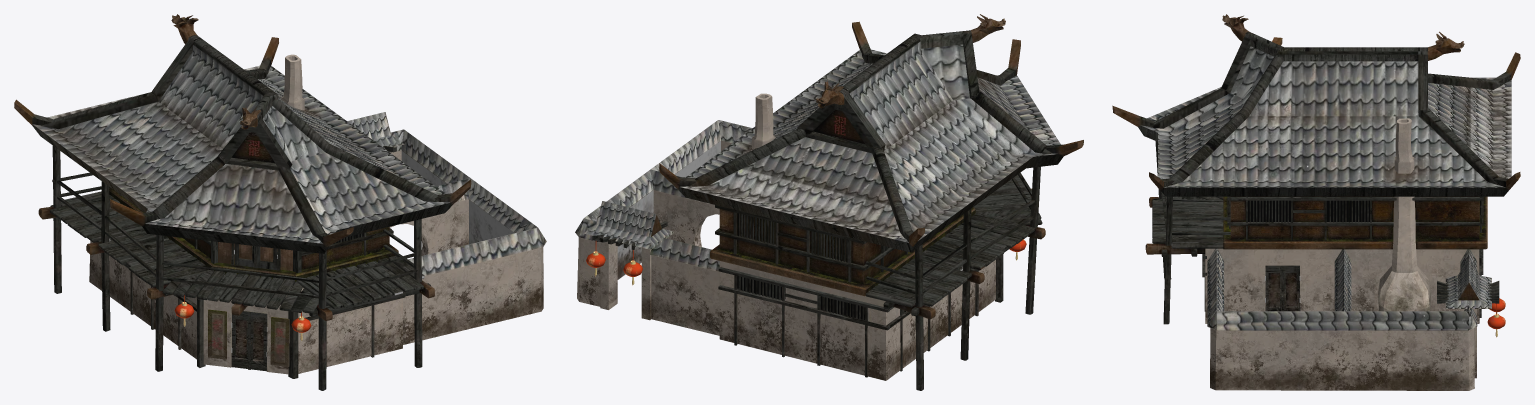
File: cour-chine.glb
3 views of the same model, side by side, from view 1: azimuth 30°, elevation 25°; view 2: azimuth 150°, elevation 25°; view 3: azimuth 270°, elevation 25° (orthographic). The views are drawn at different scales.
Parts seen in each view (by area): view 1: ROOF_WOODWORK3_StingrayPBSroof_0, PLASTER_OVEN1_StingrayPBSwalls_0; view 2: ROOF_WOODWORK3_StingrayPBSroof_0, PLASTER_OVEN1_StingrayPBSwalls_0; view 3: ROOF_WOODWORK3_StingrayPBSroof_0, PLASTER_OVEN1_StingrayPBSwalls_0.
Part boxes in pixels (x1,y1,x2,y2): ROOF_WOODWORK3_StingrayPBSroof_0: (14, 14, 471, 390); PLASTER_OVEN1_StingrayPBSwalls_0: (89, 54, 546, 374); ROOF_WOODWORK3_StingrayPBSroof_0: (586, 14, 1083, 390); PLASTER_OVEN1_StingrayPBSwalls_0: (575, 93, 995, 380); ROOF_WOODWORK3_StingrayPBSroof_0: (1112, 14, 1520, 337); PLASTER_OVEN1_StingrayPBSwalls_0: (1205, 118, 1491, 390).
Bounding box in the file's own units: 11.85 × 7.55 × 11.03.
2 materials, 2 textured.
